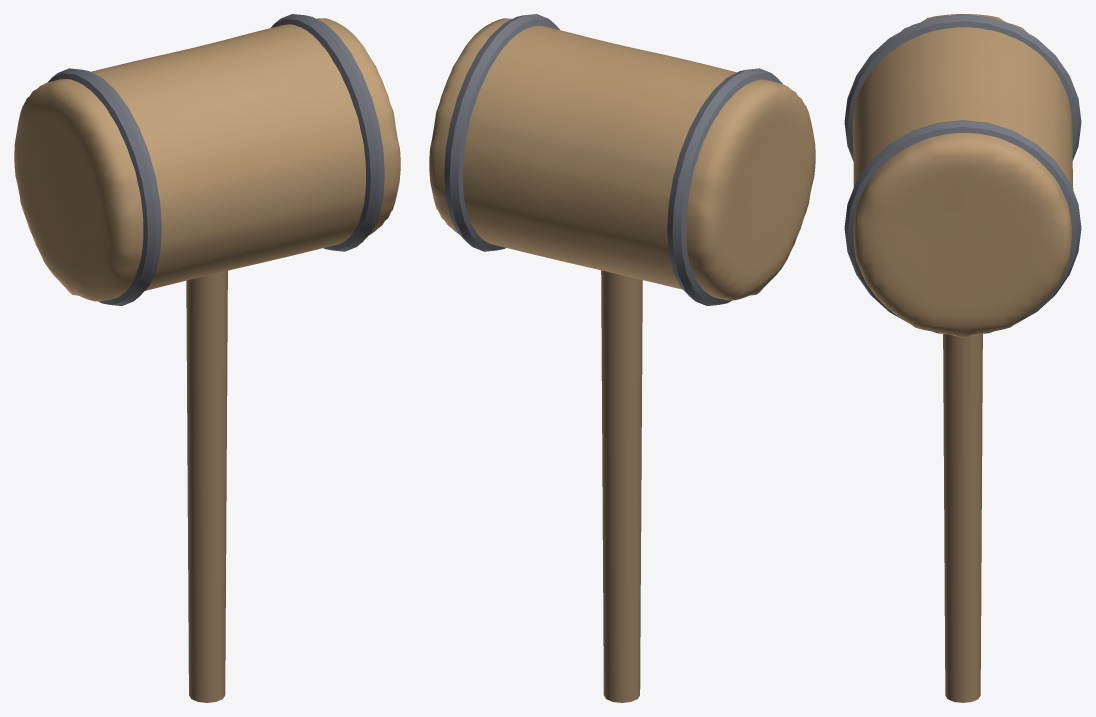
The model's file is SM_Mallet.glb.
The picture shows the model from 3 angles, left to right: view 1: azimuth 30°, elevation 25°; view 2: azimuth 150°, elevation 25°; view 3: azimuth 270°, elevation 25°; orthographic projection. The views are drawn at different scales.
Visible parts, largest first — view 1: SM_Mallet; view 2: SM_Mallet; view 3: SM_Mallet.
Part boxes in pixels (x1,y1,x2,y2): SM_Mallet: (14,14,400,702); SM_Mallet: (429,14,815,702); SM_Mallet: (844,14,1081,702).
Bounding box in the file's own units: 0.4417 × 0.941 × 0.322.
